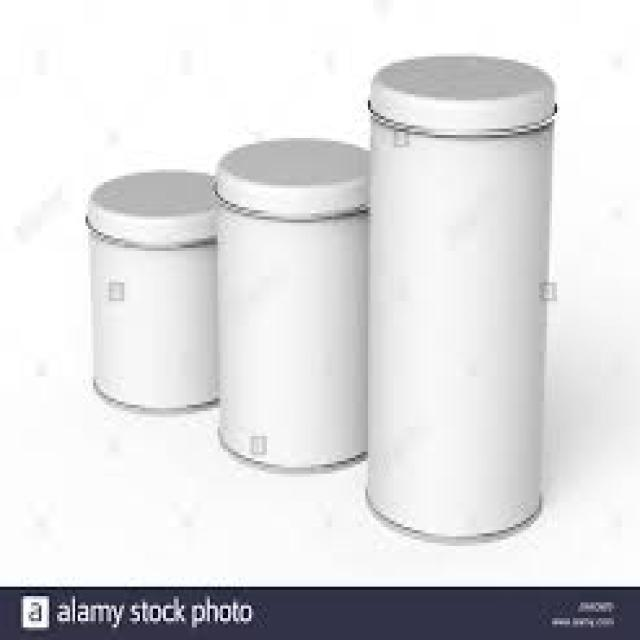metal: (360, 50, 555, 543), (210, 138, 368, 467), (83, 166, 215, 414)
